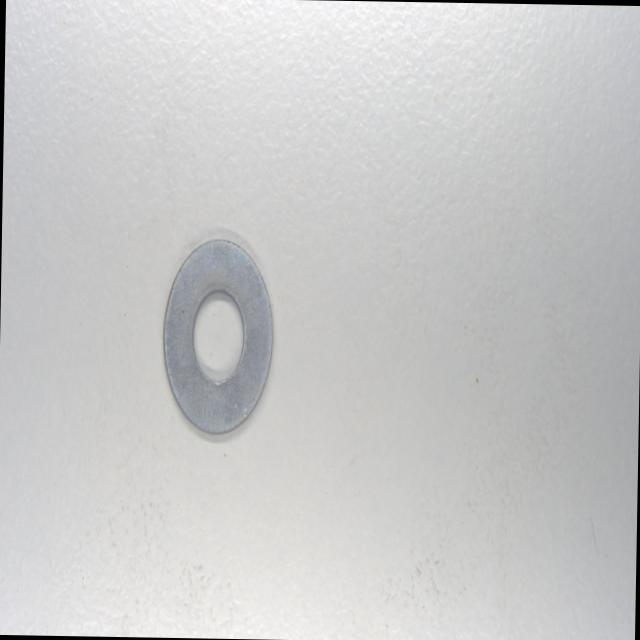washer: (158, 232, 278, 438)
